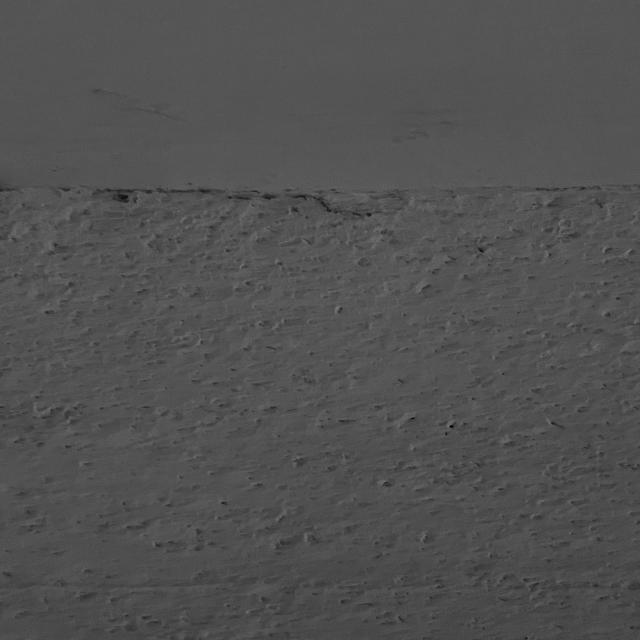rough and patchy surface: (0, 188, 640, 640)
